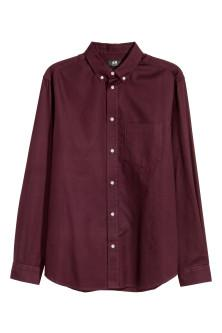teeshirt: (9, 40, 218, 289)
